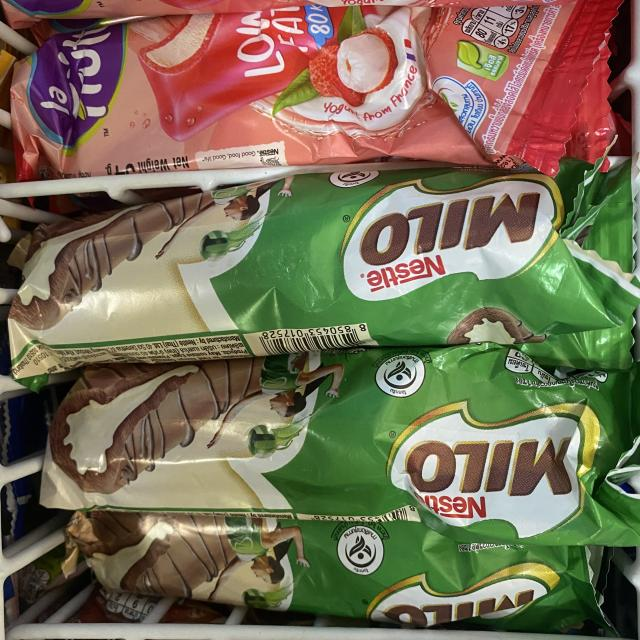plastik: (10, 160, 626, 380), (41, 344, 640, 545), (11, 0, 619, 179), (62, 511, 601, 632)
